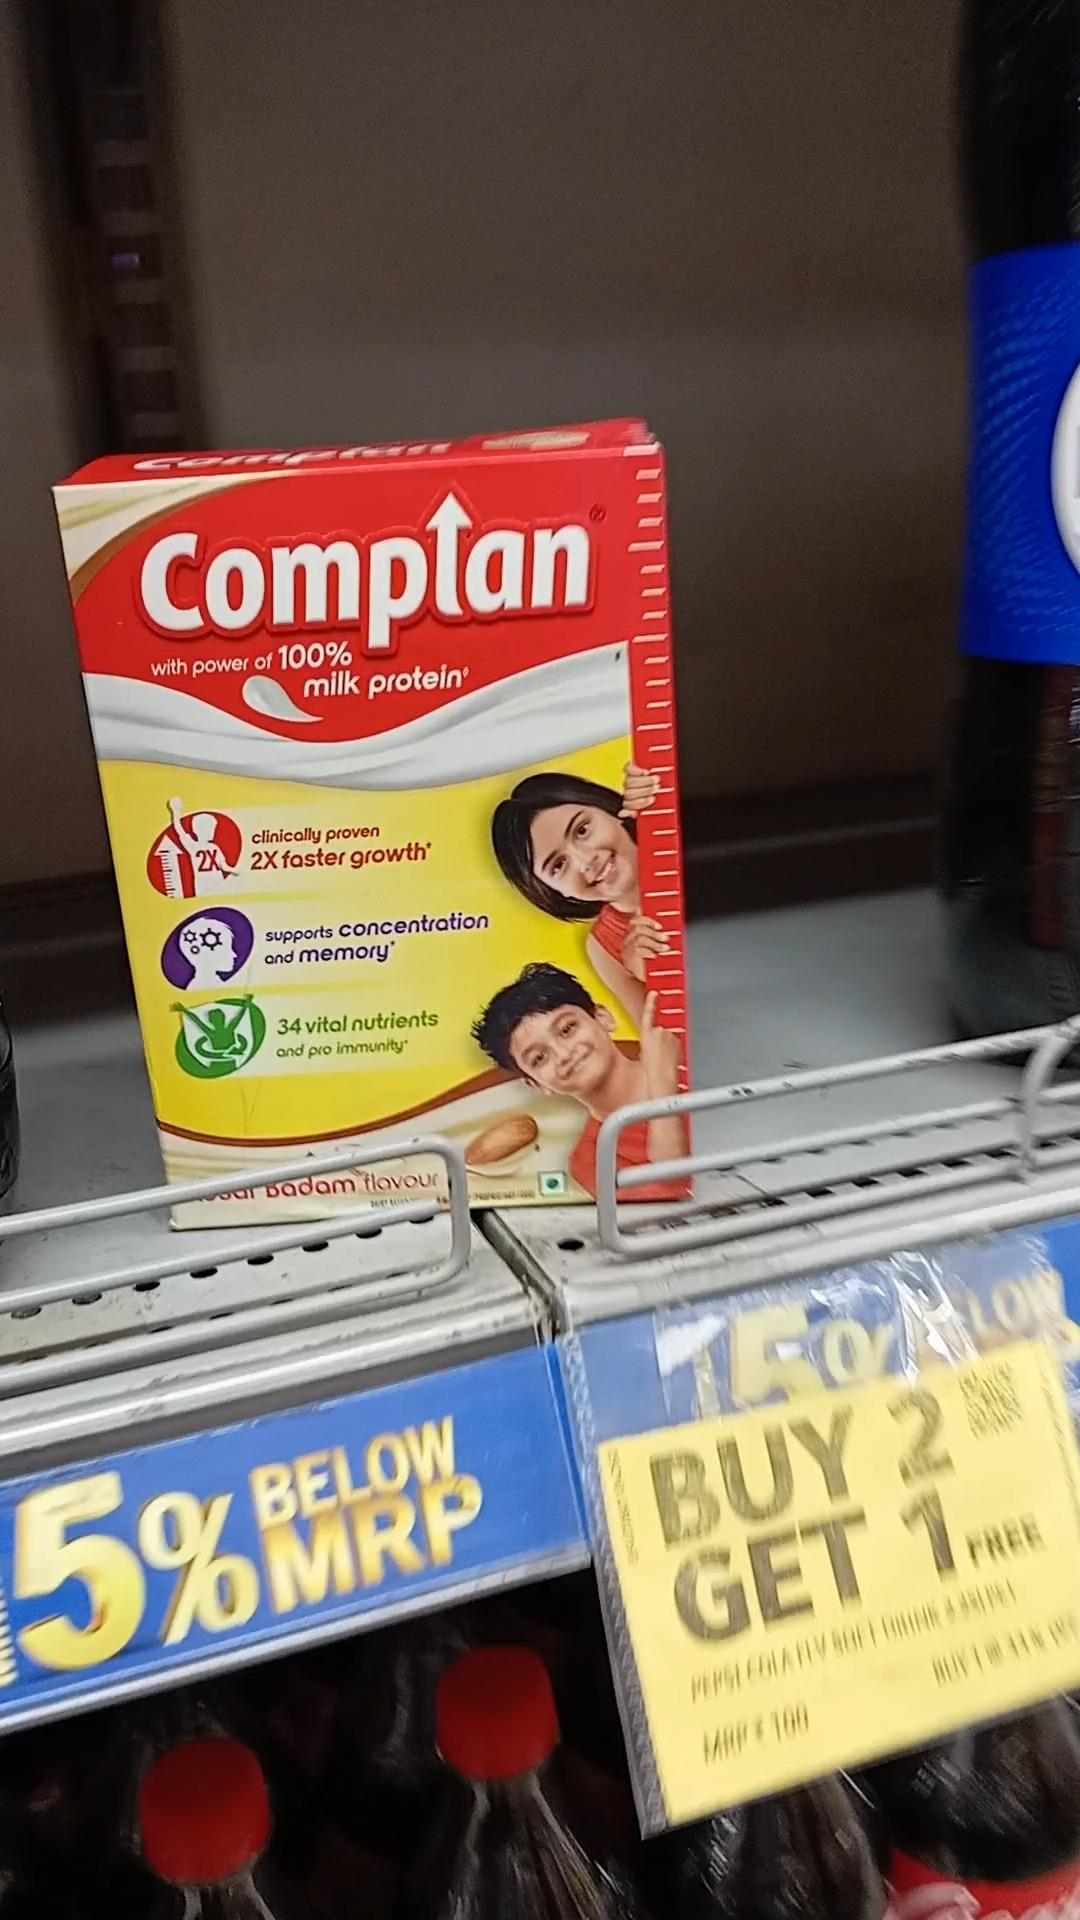COMPLAN_CHOCOLATE_200_GMS_JAR: (141, 469, 684, 1196)
